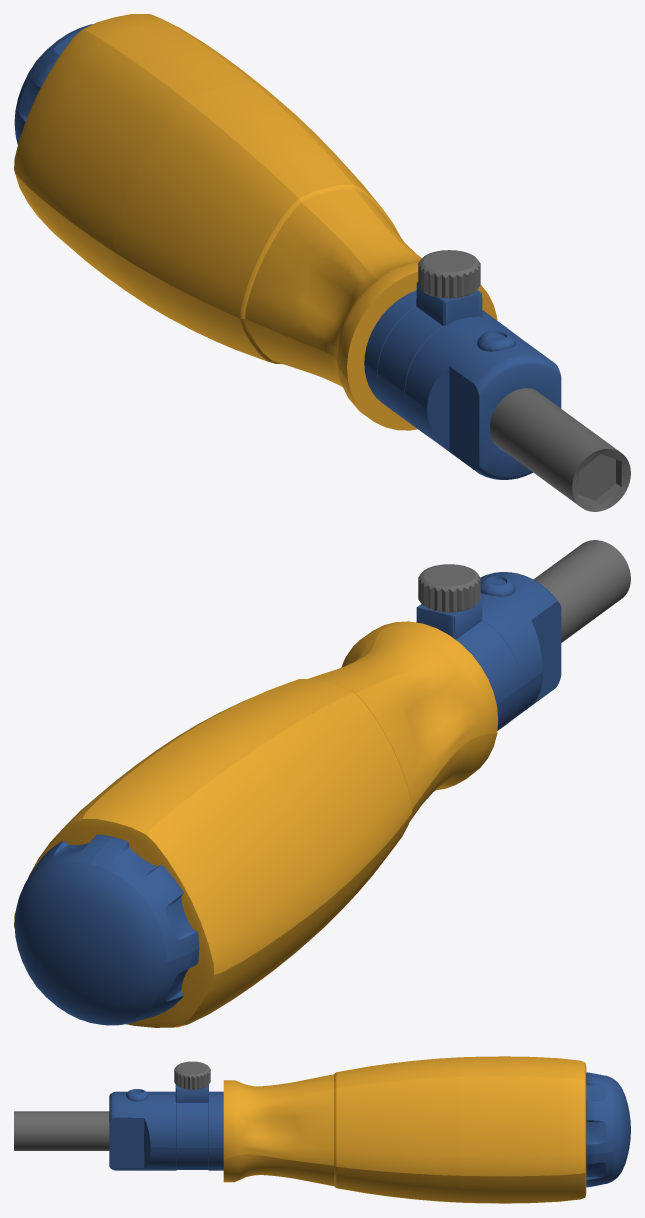
File: Screwdriver.fbx
The picture shows the model from 3 angles, top to bottom: view 1: azimuth 30°, elevation 25°; view 2: azimuth 150°, elevation 25°; view 3: azimuth 270°, elevation 25°; orthographic projection. The views are drawn at different scales.
Visible parts, largest first — view 1: part_2_low, part_3_low, part_8_low, part_4_low, part_5_low, part_1_low; view 2: part_2_low, part_1_low, part_3_low, part_8_low, part_4_low, part_5_low; view 3: part_2_low, part_3_low, part_1_low, part_8_low, part_4_low, part_5_low, part_6_low.
Part boxes in pixels (left/top/right/bottom): part_2_low: left=14, top=14, right=497, bottom=430; part_3_low: left=364, top=290, right=561, bottom=479; part_8_low: left=489, top=388, right=630, bottom=511; part_4_low: left=377, top=281, right=499, bottom=431; part_5_low: left=418, top=250, right=480, bottom=298; part_1_low: left=14, top=24, right=92, bottom=144; part_2_low: left=14, top=621, right=498, bottom=1027; part_1_low: left=14, top=834, right=199, bottom=1025; part_3_low: left=454, top=572, right=561, bottom=725; part_8_low: left=533, top=540, right=630, bottom=642; part_4_low: left=416, top=596, right=520, bottom=730; part_5_low: left=418, top=564, right=480, bottom=612; part_2_low: left=223, top=1056, right=586, bottom=1203; part_3_low: left=109, top=1091, right=223, bottom=1170; part_1_low: left=586, top=1072, right=630, bottom=1187; part_8_low: left=14, top=1111, right=109, bottom=1150; part_4_low: left=175, top=1084, right=208, bottom=1169; part_5_low: left=174, top=1061, right=210, bottom=1089; part_6_low: left=126, top=1089, right=148, bottom=1101.
Size of the model in its own units: 43.64 by 41.6 by 183.
